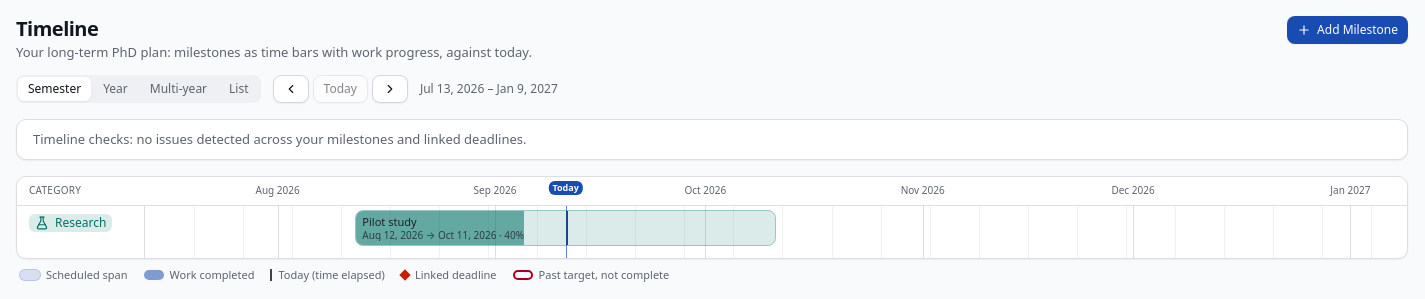
Test case: TimelinePage › switches to the chronological list and persists the view
The width and height of the screenshot is (1425, 299).
Check: the element named "Milestone timeline" is shown, box [16,176,1408,259]
Click the radio button labelled "List".
click(239, 88)  # box [219,76,259,100]
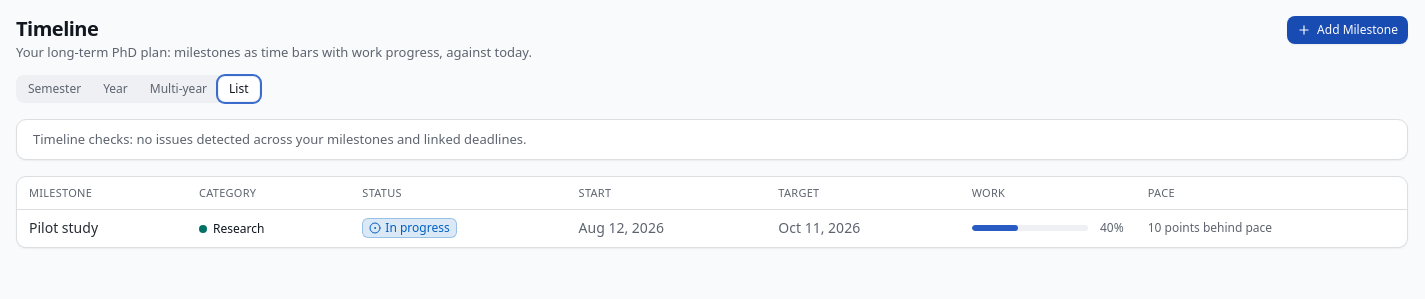
Check: the button "Pilot study" is shown, box [29,218,98,238]
Check: the table is shown, box [17,177,1407,247]
Check: the text "In progress" is shown, box [385,220,450,236]
